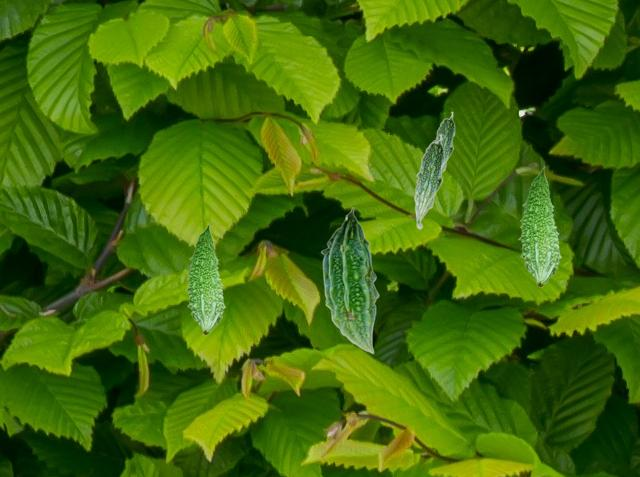ampalaya: (320, 207, 379, 354), (518, 166, 562, 287), (185, 222, 226, 335), (413, 133, 445, 230), (435, 111, 455, 172)
